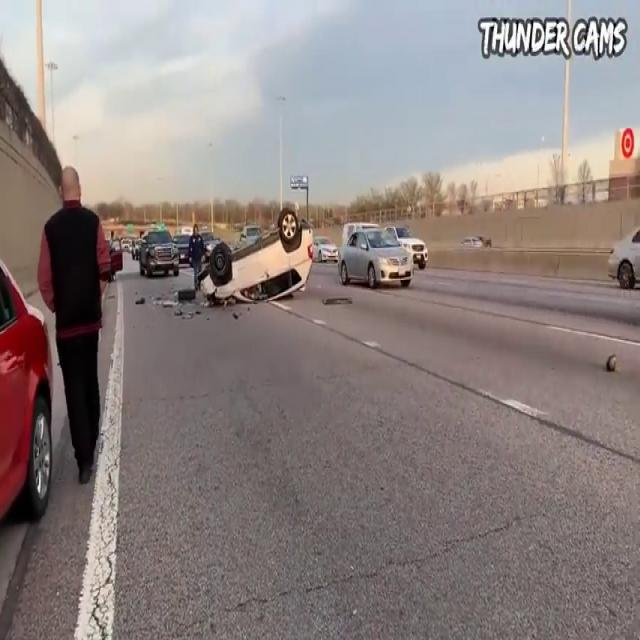accident: (196, 201, 334, 341)
